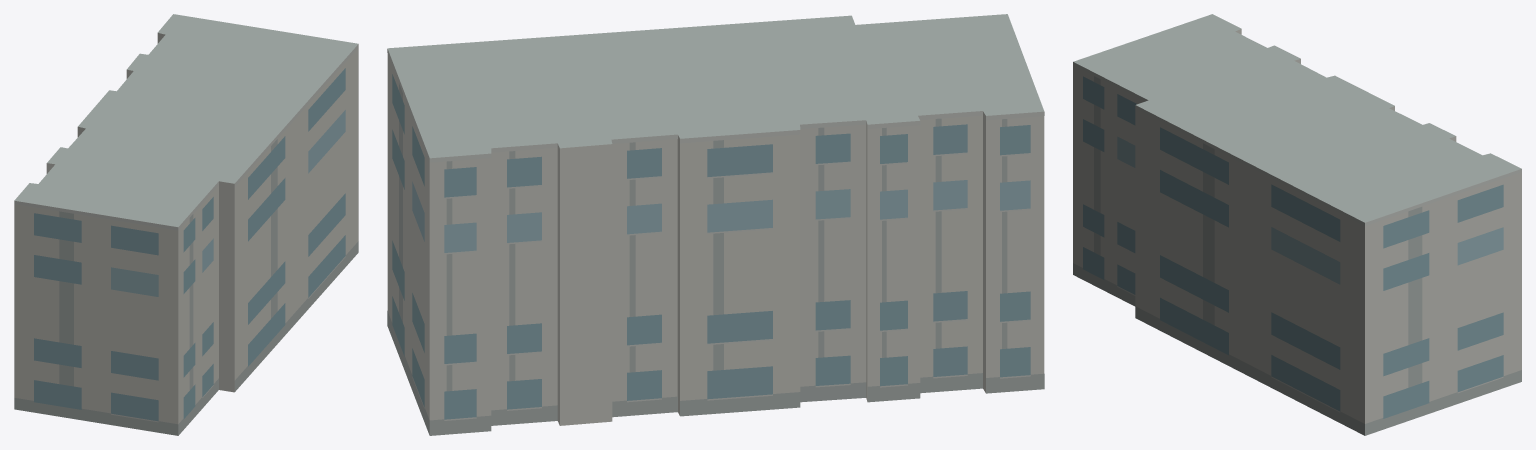
File: survey-upis-32668172.glb
3 renders of one model, left to right at view 1: azimuth 30°, elevation 25°; view 2: azimuth 150°, elevation 25°; view 3: azimuth 270°, elevation 25°, orthographic. The views are drawn at different scales.
Parts seen in each view (by area): view 1: survey-upis-32668172.tmp; view 2: survey-upis-32668172.tmp; view 3: survey-upis-32668172.tmp.
Part boxes in pixels (x1,y1,x2,y2): survey-upis-32668172.tmp: (14,14,358,435); survey-upis-32668172.tmp: (387,14,1044,435); survey-upis-32668172.tmp: (1073,14,1521,435).
Size of the model in its own units: 31.54 by 15 by 28.64.
